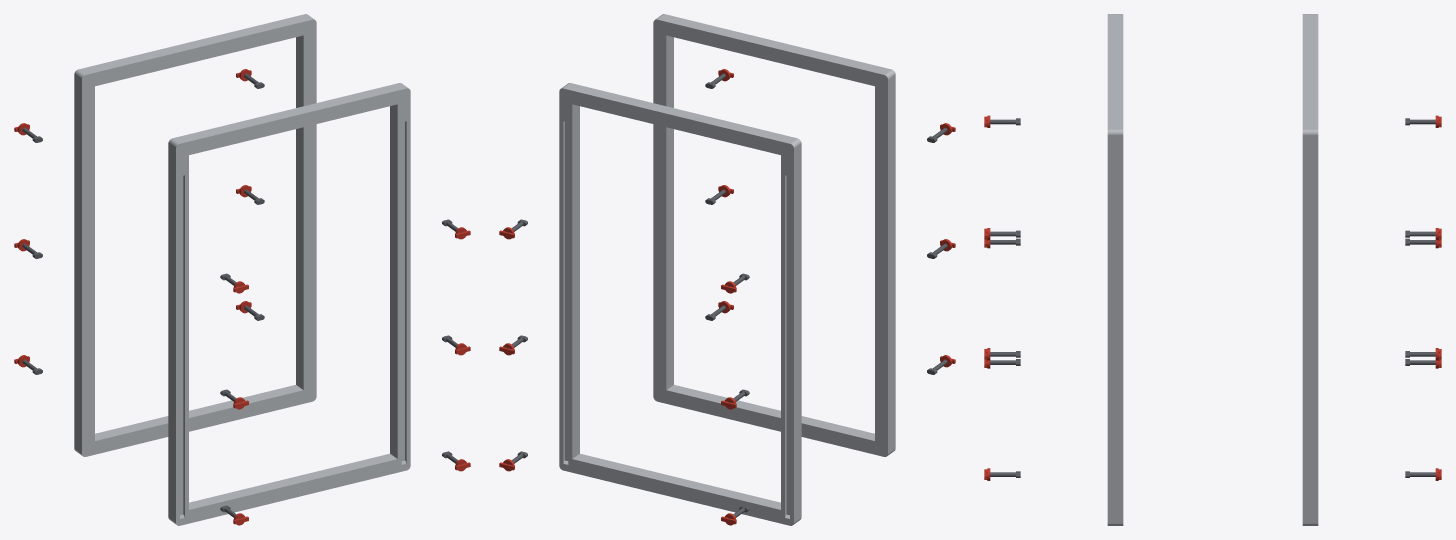
The model's file is c_suitcase_pulled.glb.
3 views of the same model, side by side, from view 1: azimuth 30°, elevation 25°; view 2: azimuth 150°, elevation 25°; view 3: azimuth 270°, elevation 25° (orthographic). The views are drawn at different scales.
Visible parts, largest first — view 1: ring_front, ring_back; view 2: ring_back, ring_front; view 3: ring_front, ring_back.
Part boxes in pixels (x1=…): ring_front: x1=168, y1=83, x2=410, y2=525; ring_back: x1=74, y1=14, x2=316, y2=456; ring_back: x1=559, y1=83, x2=801, y2=525; ring_front: x1=653, y1=14, x2=895, y2=456; ring_front: x1=1107, y1=14, x2=1123, y2=525; ring_back: x1=1302, y1=14, x2=1318, y2=525.
Bounding box in the file's own units: 0.362 × 0.56 × 0.586.
